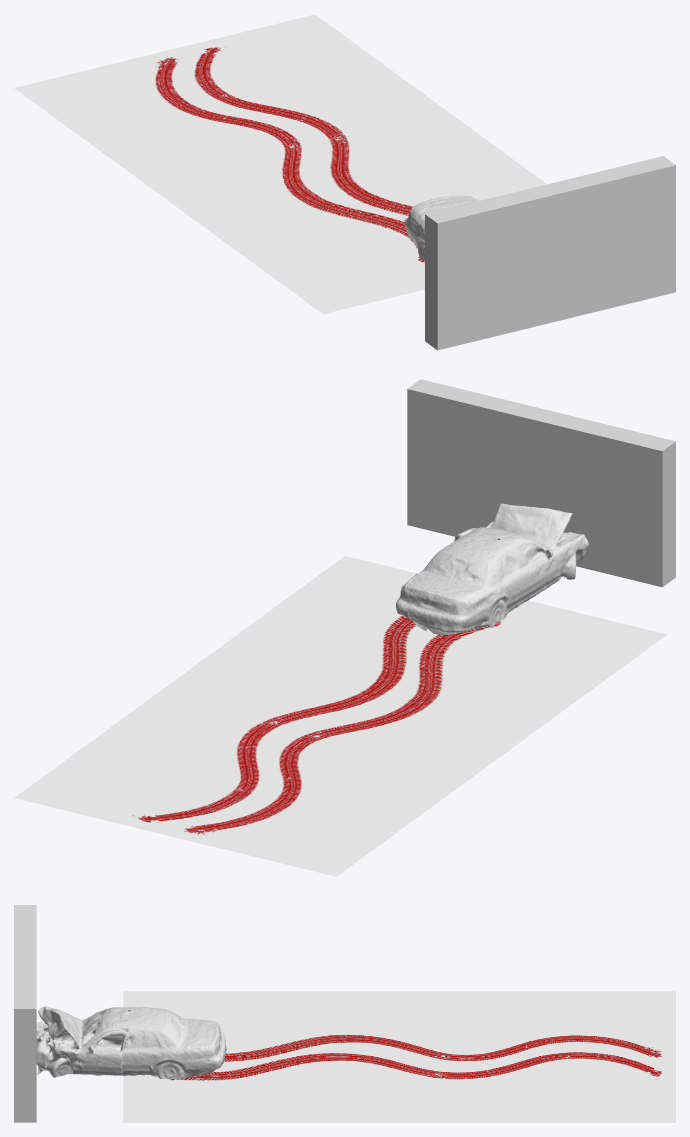
File: homeScene.fbx
3 renders of one model, top to bottom at view 1: azimuth 30°, elevation 25°; view 2: azimuth 150°, elevation 25°; view 3: azimuth 270°, elevation 25°, orthographic. The views are drawn at different scales.
Parts seen in each view (by area): view 1: redTRacks, Cube, Crashtest Ford crown Victoria 2007 Wrex Orlando; view 2: redTRacks, Cube, Crashtest Ford crown Victoria 2007 Wrex Orlando; view 3: redTRacks, Crashtest Ford crown Victoria 2007 Wrex Orlando, Cube.
Part boxes in pixels (box(x1,y1,x2,y2)): redTRacks: box(14, 14, 546, 314); Cube: box(425, 156, 675, 350); Crashtest Ford crown Victoria 2007 Wrex Orlando: box(404, 195, 478, 260); redTRacks: box(14, 556, 667, 876); Cube: box(407, 379, 675, 587); Crashtest Ford crown Victoria 2007 Wrex Orlando: box(396, 503, 588, 634); redTRacks: box(123, 991, 675, 1122); Crashtest Ford crown Victoria 2007 Wrex Orlando: box(36, 1006, 226, 1079); Cube: box(14, 905, 36, 1122).
Size of what is drawn, in the model's own units: 496 by 200 by 1056.
